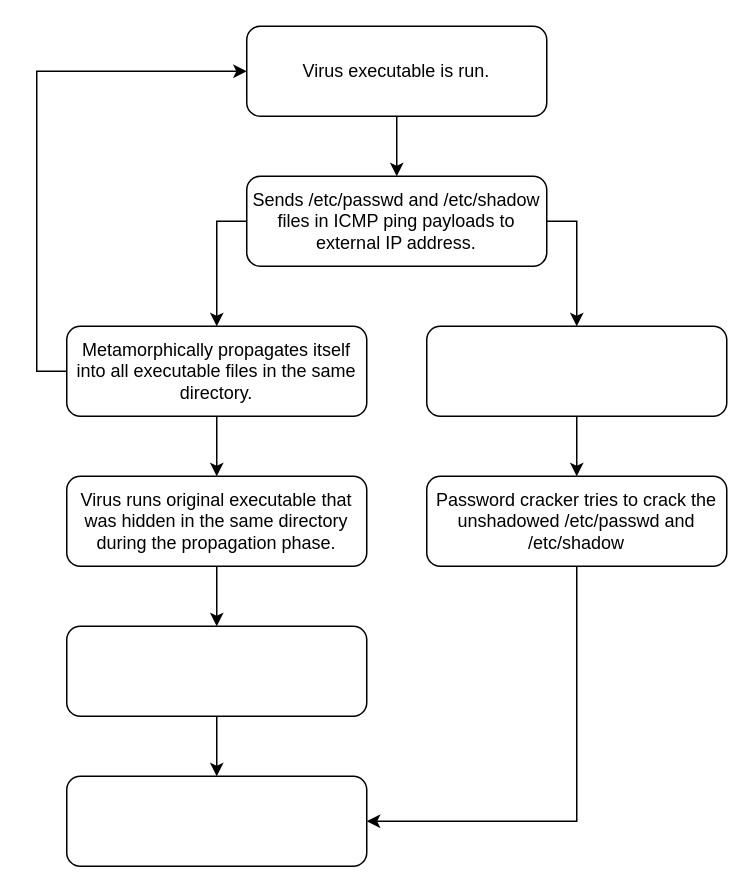
Image size: 753x893. Some labels were removed from this diagram. Each missing label, with the box of its shape:
Attacker is able to access target system with cracked passwords.: (65, 775, 367, 866)
Packet analyzer captures the ICMP ping packets over the network.: (425, 325, 727, 416)
Perl reverse shell is opened giving access to the target system.: (65, 625, 367, 716)
